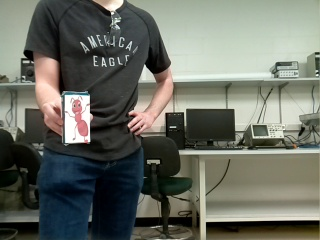Happy: (64, 95, 90, 143)
